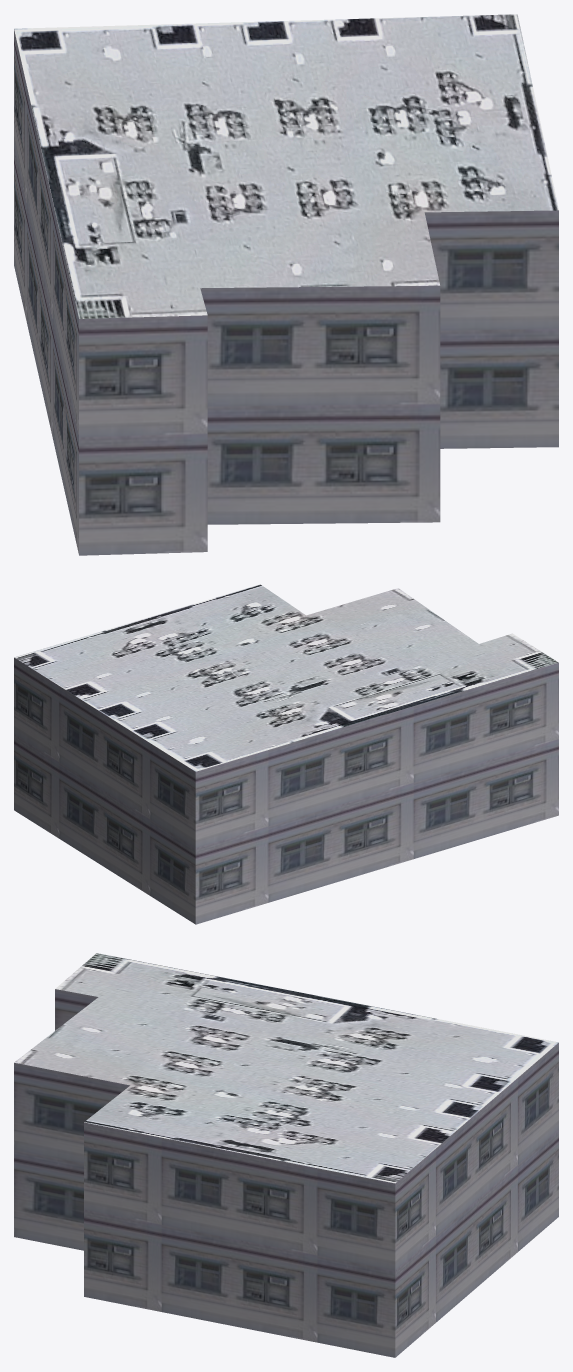
Rendered from ResTex__645.fbx.
3 views of the same model, one above another, from view 1: azimuth 30°, elevation 25°; view 2: azimuth 150°, elevation 25°; view 3: azimuth 270°, elevation 25° (orthographic). The views are drawn at different scales.
Parts seen in each view (by area): view 1: CityEngineMaterial_1_m, CityEngineMaterial_2_m; view 2: CityEngineMaterial_1_m, CityEngineMaterial_2_m; view 3: CityEngineMaterial_1_m, CityEngineMaterial_2_m.
Boxes of the visible parts, x1,y1,x2,y2 form: CityEngineMaterial_1_m: (14, 29, 558, 555); CityEngineMaterial_2_m: (14, 14, 558, 318); CityEngineMaterial_1_m: (14, 657, 558, 924); CityEngineMaterial_2_m: (14, 584, 558, 771); CityEngineMaterial_1_m: (14, 989, 558, 1357); CityEngineMaterial_2_m: (14, 953, 558, 1183).
Bounding box in the file's own units: 17.01 × 6 × 16.99.
2 materials, 2 textured.
